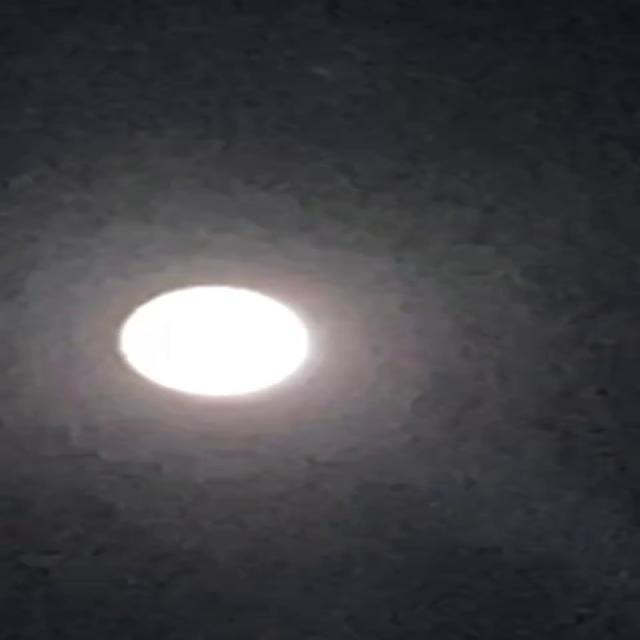moon: (103, 278, 329, 399)
